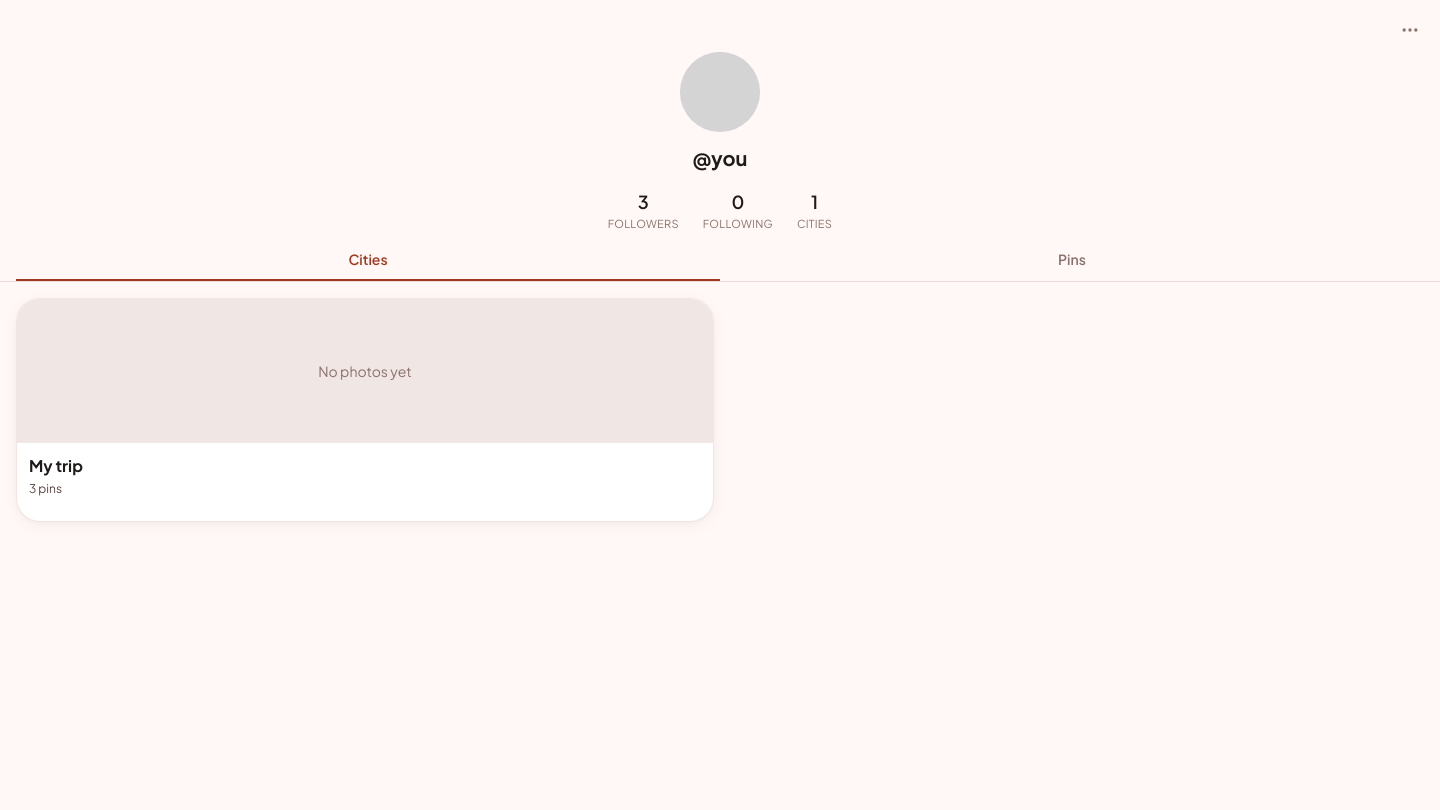
Profile — Pins tab grouped by category › groups pins under a header per category, in CATEGORIES order, and omits empty categories
Click the button "Pins" at (1072, 264), box [720, 248, 1424, 280]
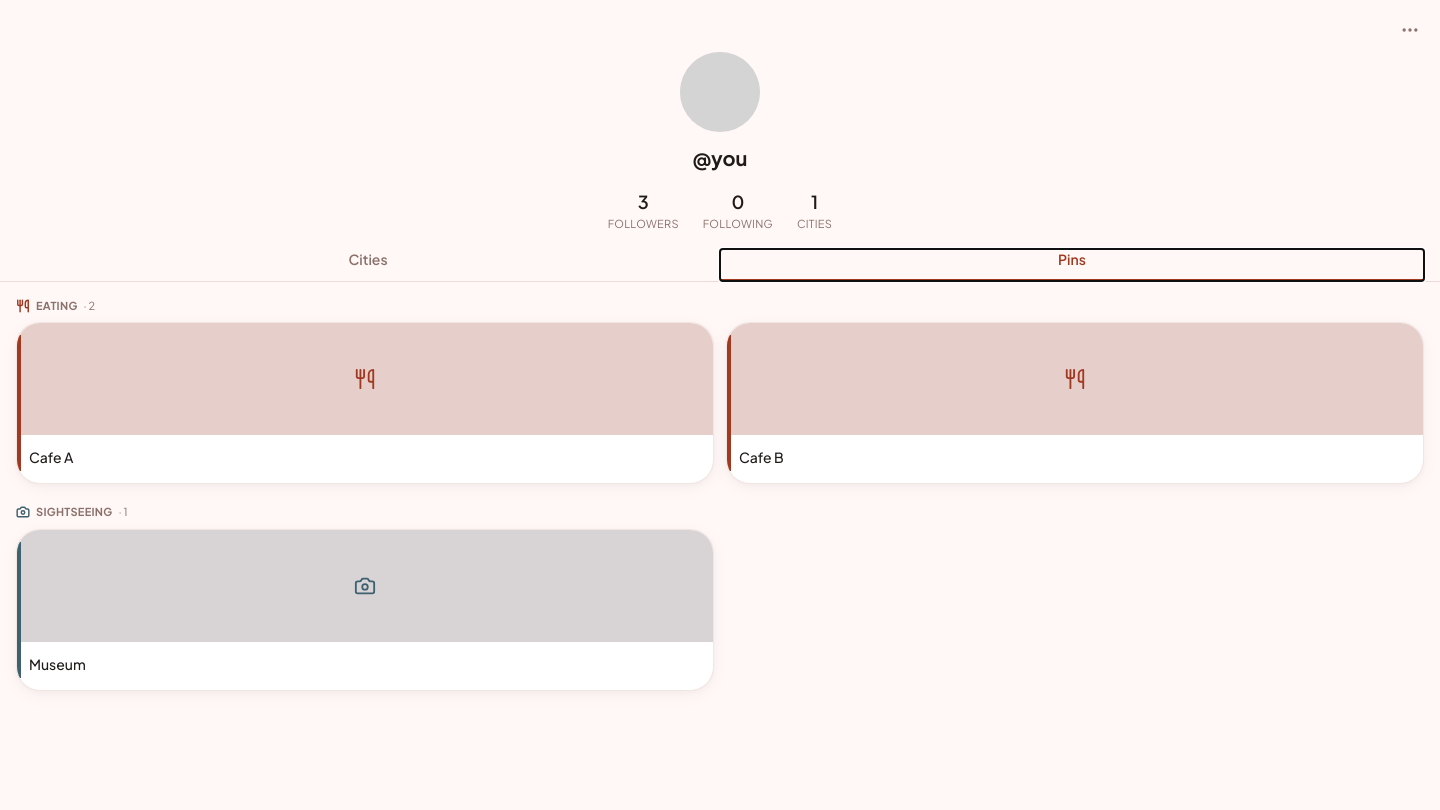
Expected: the text "Cafe A" is shown, [29, 448, 73, 466]
Expected: the text "Cafe B" is shown, [739, 448, 784, 466]
Expected: the text "Museum" is shown, [29, 654, 86, 672]
